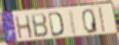B: (30, 13, 49, 39)
D: (47, 11, 65, 38)
H: (14, 13, 34, 41)
I: (68, 9, 78, 37), (98, 7, 106, 34)
Q: (82, 8, 99, 34)
